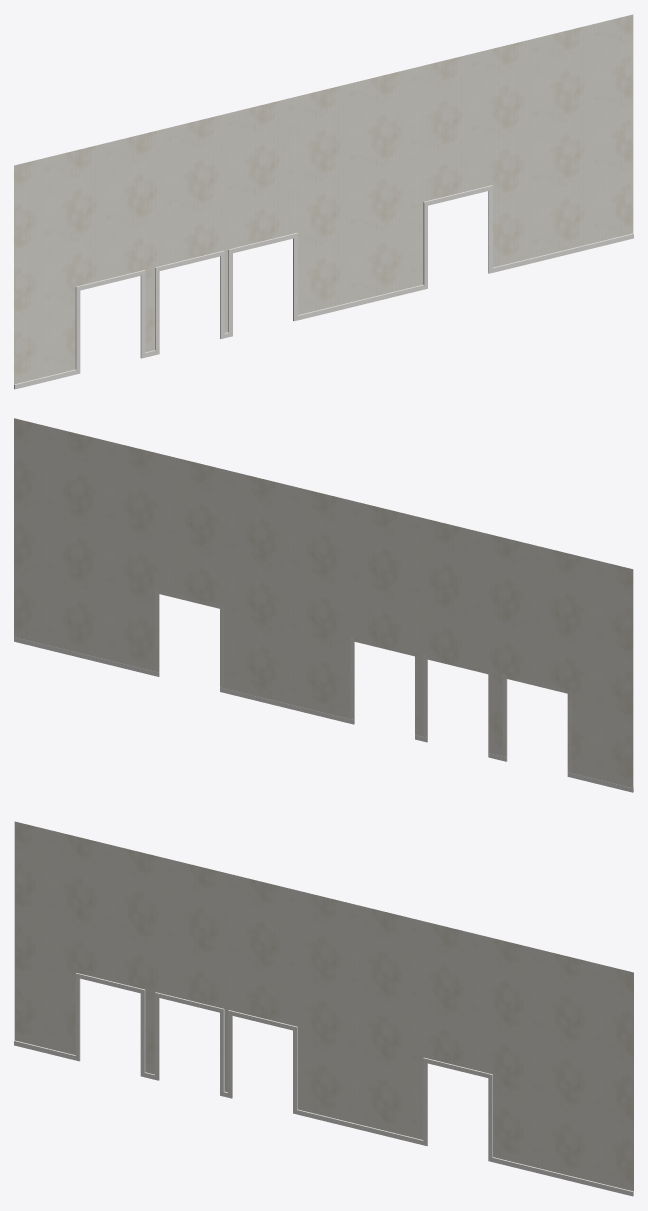
The picture shows the model from 3 angles, top to bottom: view 1: azimuth 30°, elevation 25°; view 2: azimuth 150°, elevation 25°; view 3: azimuth 330°, elevation 25°; orthographic projection.
Parts seen in each view (by area): view 1: jx_wm_20_11576b13; view 2: jx_wm_20_11576b13; view 3: jx_wm_20_11576b13.
Part boxes in pixels (x1,y1,x2,y2): jx_wm_20_11576b13: (14, 14, 633, 389); jx_wm_20_11576b13: (14, 418, 633, 792); jx_wm_20_11576b13: (14, 821, 633, 1196).
Bounding box in the file's own units: 20.3 × 7 × 0.05.
Materials: 2 (2 with a texture image).
